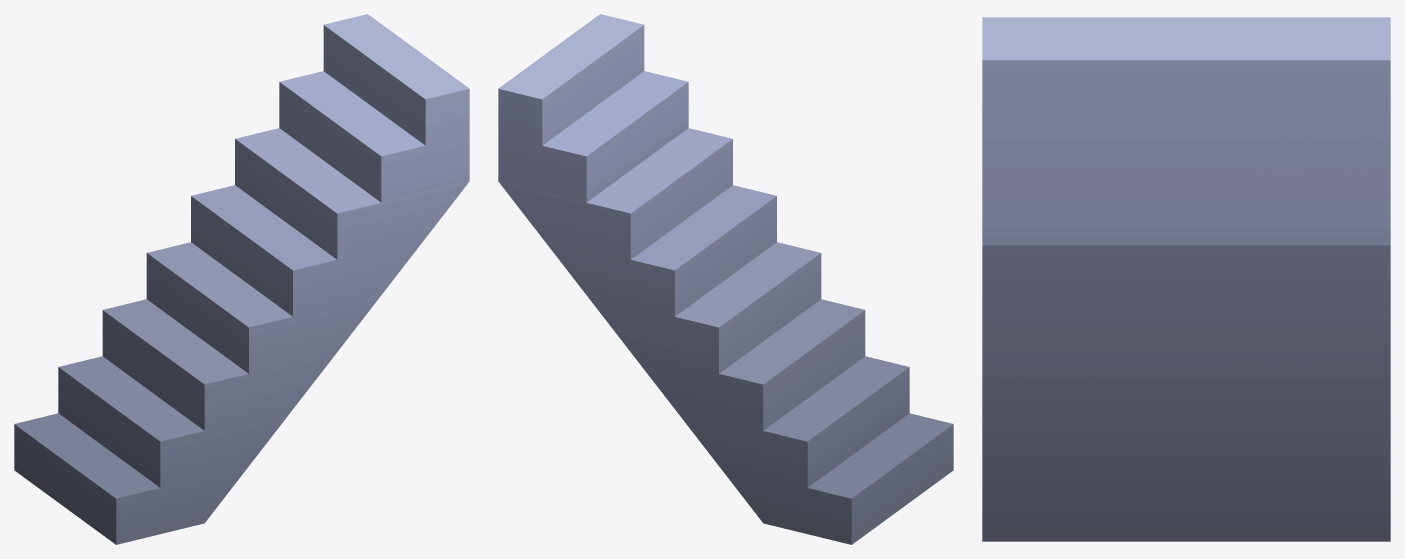
File: stairs-diagonal-small-narrow.glb
3 views of the same model, side by side, from view 1: azimuth 30°, elevation 25°; view 2: azimuth 150°, elevation 25°; view 3: azimuth 270°, elevation 25° (orthographic). The views are drawn at different scales.
Parts seen in each view (by area): view 1: stairs-diagonal-small-narrow; view 2: stairs-diagonal-small-narrow; view 3: stairs-diagonal-small-narrow.
Part boxes in pixels (x1=…): stairs-diagonal-small-narrow: x1=14, y1=14, x2=469, y2=544; stairs-diagonal-small-narrow: x1=498, y1=14, x2=953, y2=544; stairs-diagonal-small-narrow: x1=982, y1=17, x2=1390, y2=541.
Bounding box in the file's own units: 1 × 1 × 0.5.
Materials: 1 (1 with a texture image).
